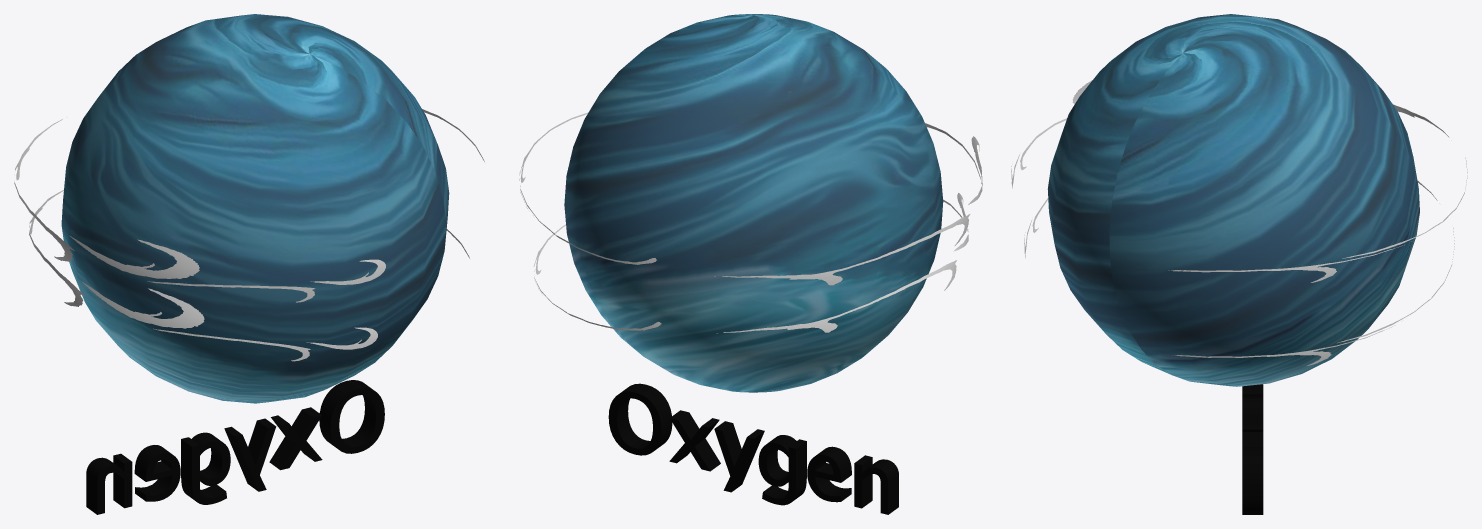
The model's file is Oxygen V2.fbx.
3 views of the same model, side by side, from view 1: azimuth 30°, elevation 25°; view 2: azimuth 150°, elevation 25°; view 3: azimuth 270°, elevation 25° (orthographic). The views are drawn at different scales.
Visible parts, largest first — view 1: pSphere1, typeMesh2, pTorus1, pTorus2; view 2: pSphere1, typeMesh2, pTorus1, pTorus2; view 3: pSphere1, typeMesh2, pTorus1, pTorus2.
Part boxes in pixels (box(x1,y1,x2,y2)): pSphere1: box(61, 14, 449, 403); typeMesh2: box(86, 380, 384, 514); pTorus1: box(14, 109, 484, 302); pTorus2: box(29, 190, 469, 361); pSphere1: box(564, 14, 943, 392); typeMesh2: box(608, 383, 898, 514); pTorus1: box(519, 112, 982, 285); pTorus2: box(533, 193, 968, 333); pSphere1: box(1047, 14, 1419, 386); typeMesh2: box(1242, 384, 1263, 514); pTorus1: box(1011, 80, 1467, 282); pTorus2: box(1024, 180, 1454, 365).
Size of the model in its own units: 2.45 by 2.64 by 2.45.
Materials: 2 (1 with a texture image).
